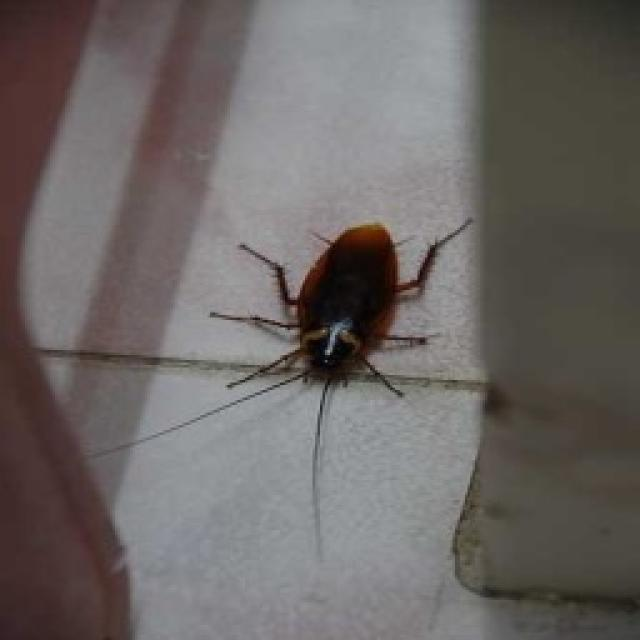cockroach: (207, 156, 474, 490)
